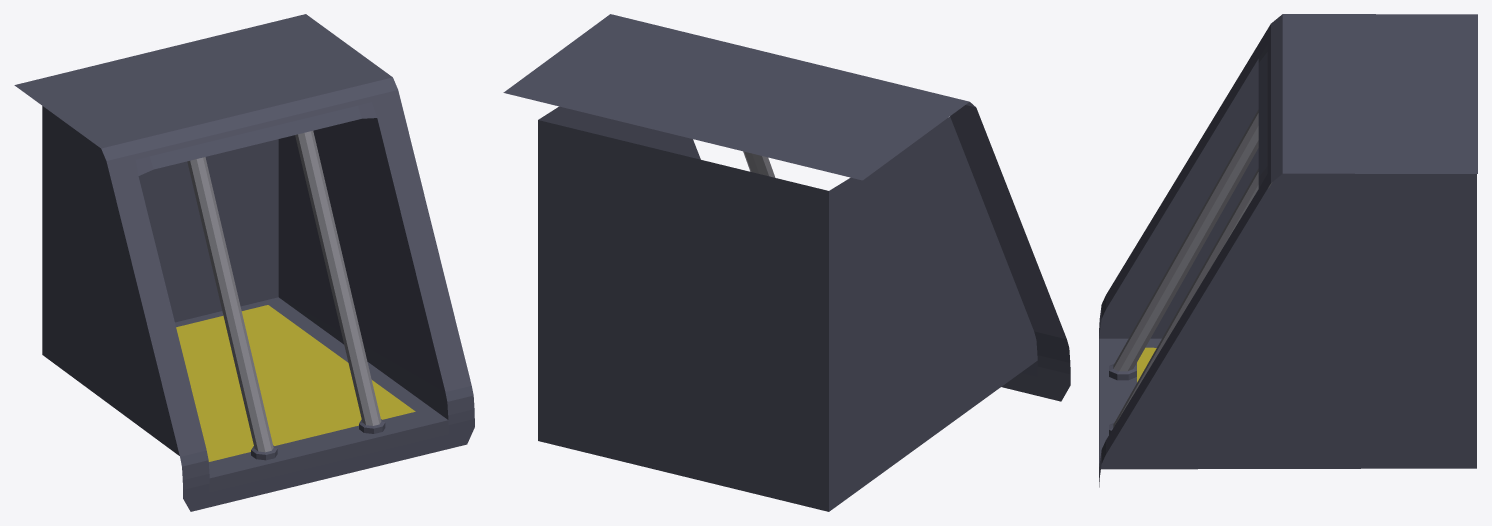
File: NoSideCage.fbx
The picture shows the model from 3 angles, left to right: view 1: azimuth 30°, elevation 25°; view 2: azimuth 150°, elevation 25°; view 3: azimuth 270°, elevation 25°; orthographic projection. The views are drawn at different scales.
Visible parts, largest first — view 1: AllFacesCage; view 2: AllFacesCage; view 3: AllFacesCage.
Boxes of the visible parts, left/top/right/bottom form: AllFacesCage: left=14, top=14, right=474, bottom=511; AllFacesCage: left=503, top=14, right=1070, bottom=511; AllFacesCage: left=1099, top=14, right=1477, bottom=487.
Bounding box in the file's own units: 100 × 100 × 100.
